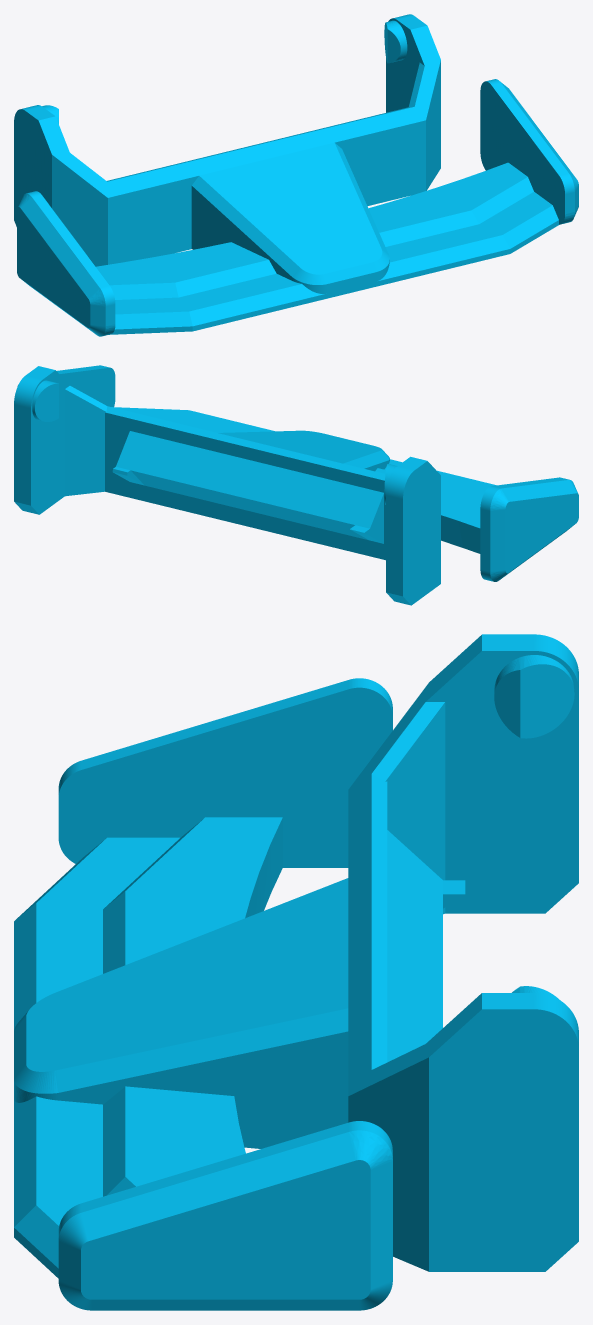
The model's file is Bumper_Race.glb.
The picture shows the model from 3 angles, top to bottom: view 1: azimuth 30°, elevation 25°; view 2: azimuth 150°, elevation 25°; view 3: azimuth 270°, elevation 25°; orthographic projection. The views are drawn at different scales.
Parts seen in each view (by area): view 1: Node1; view 2: Node1; view 3: Node1.
Part boxes in pixels (<box>): Node1: <box>14,14,578,336</box>; Node1: <box>14,365,578,605</box>; Node1: <box>14,634,578,1310</box>.
Size of the model in its own units: 100 by 26 by 50.7.
